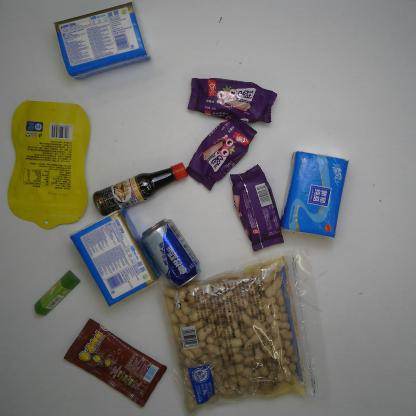Alcohol: (140, 216, 204, 290)
Candy: (63, 317, 168, 409)
Dessert: (184, 115, 258, 192), (227, 162, 286, 254), (186, 76, 278, 126)
Dried Food: (145, 246, 326, 414)
Dried Fruit: (6, 100, 92, 232)
Seasoner: (92, 161, 189, 218)
Stationery: (33, 269, 82, 317)
Tissue: (69, 207, 161, 307), (52, 2, 153, 82), (279, 149, 350, 241)
